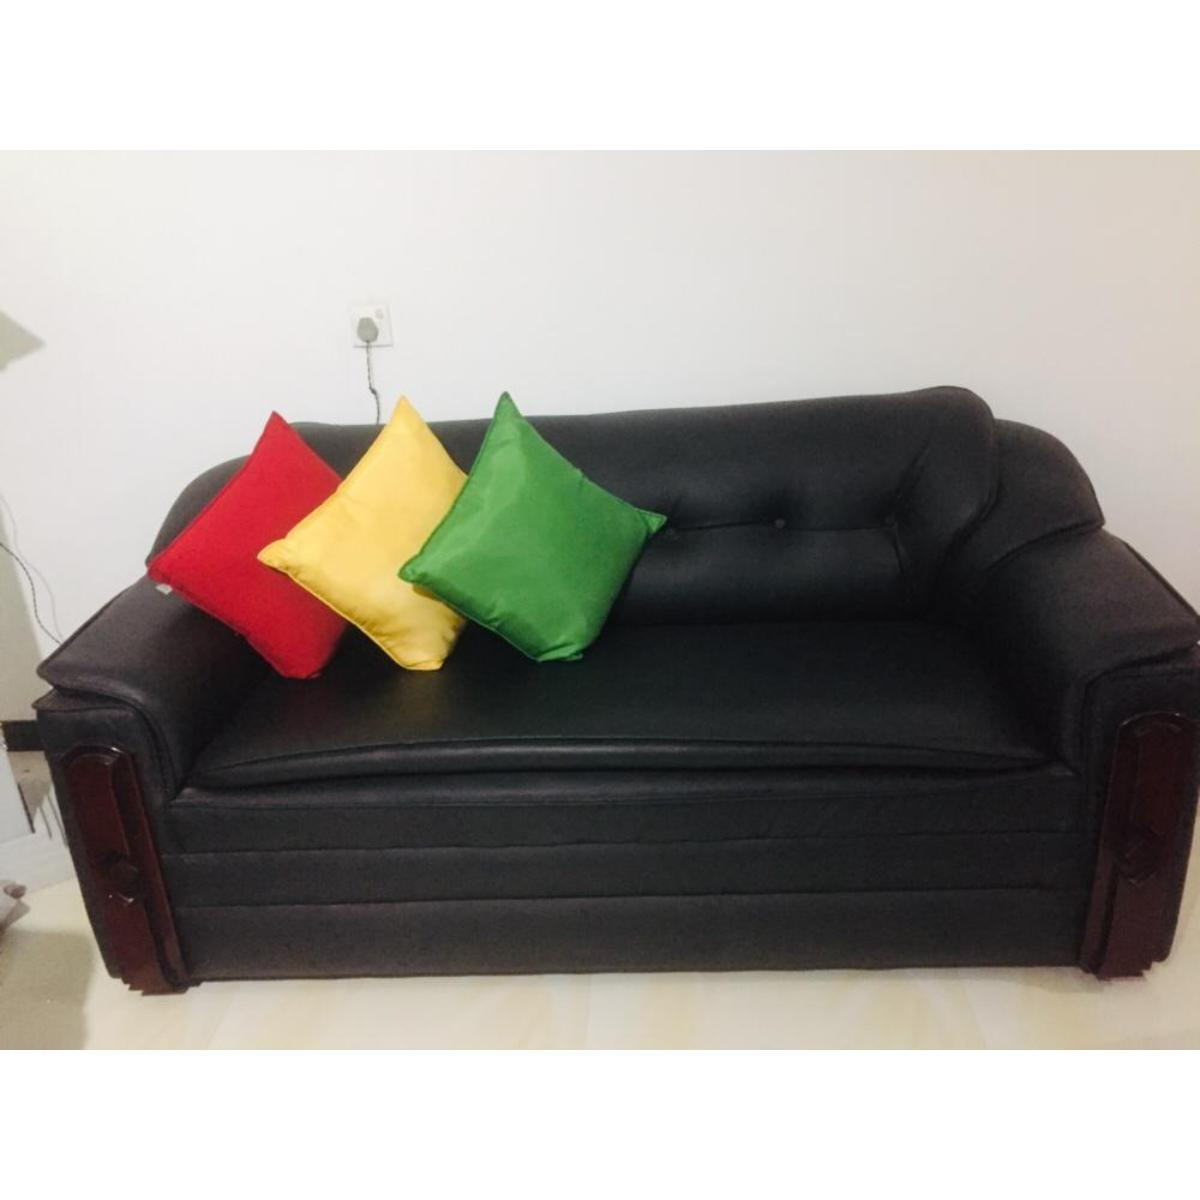Sofa: (27, 395, 1191, 1002)
